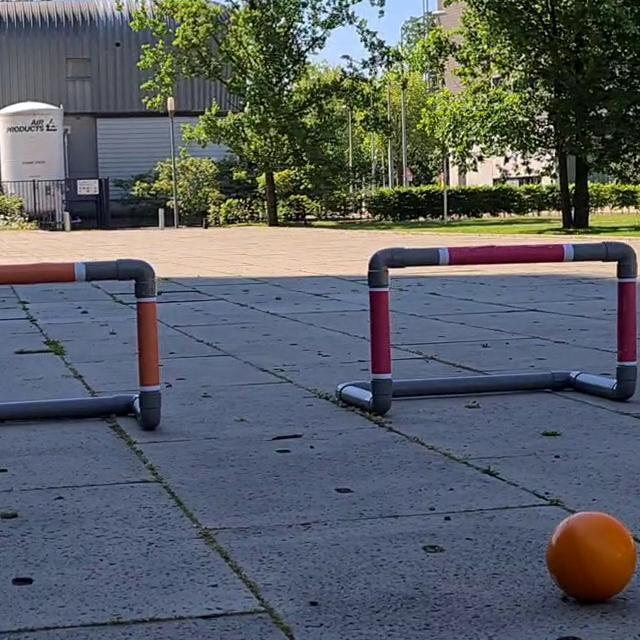ball: (542, 509, 640, 606)
